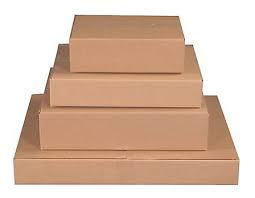Cardboard: (7, 5, 255, 198)
